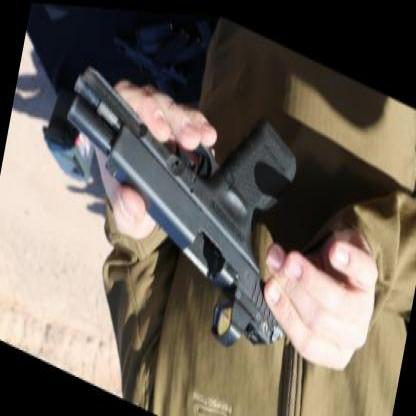pistol: (35, 27, 336, 394)
